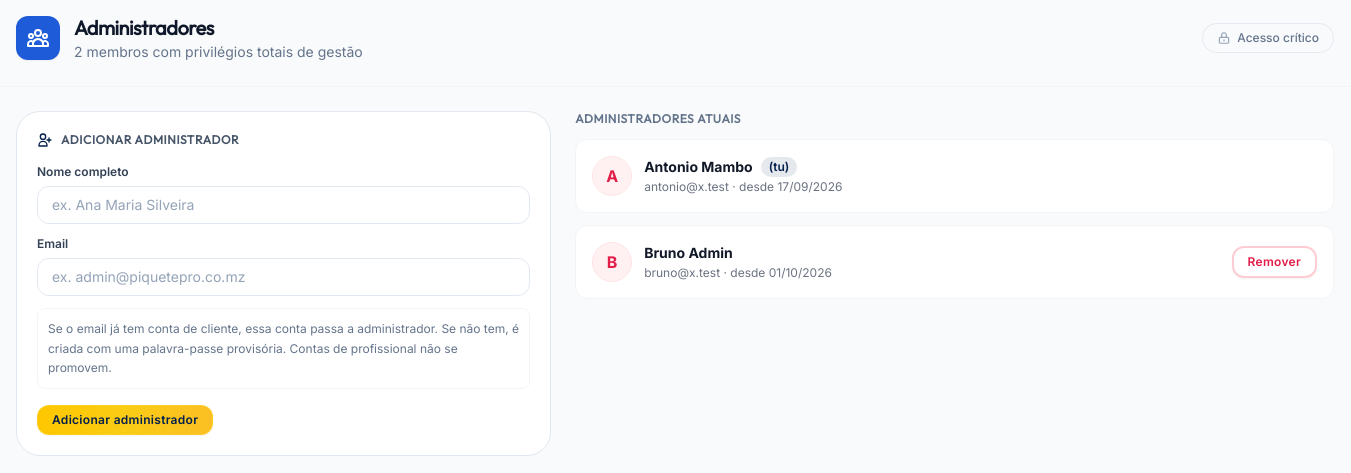
Test: AdminAdmins — lista › o erro do servidor (ex. último administrador) aparece e volta a pedir confirmação
Click the button with aria-label "Remover Bruno Admin".
click(1274, 262)  # box [1232, 246, 1317, 278]
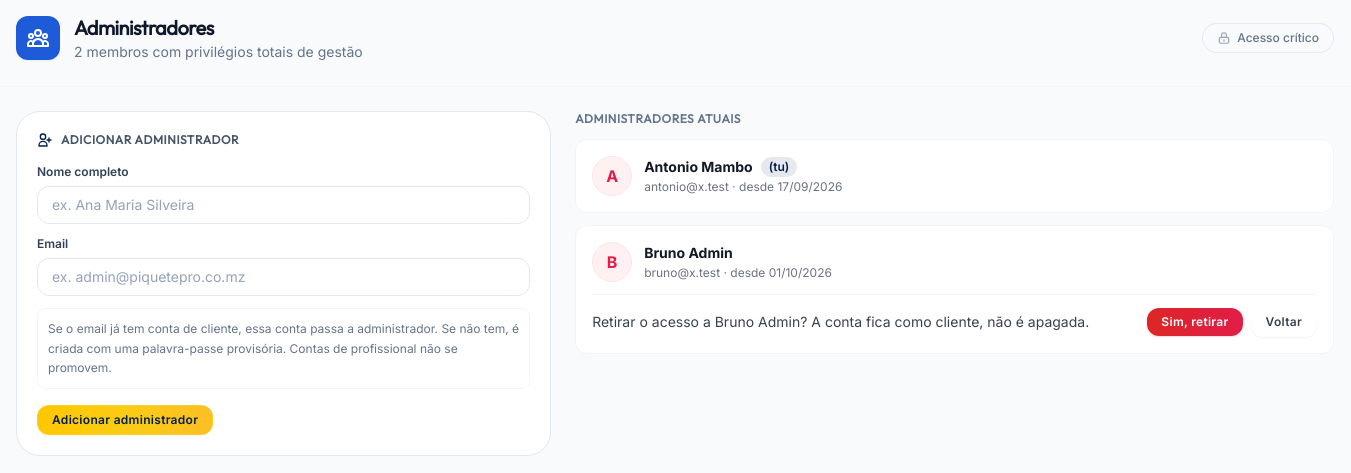
Click the button "Sim, retirar".
click(1195, 322)  # box [1147, 308, 1242, 336]
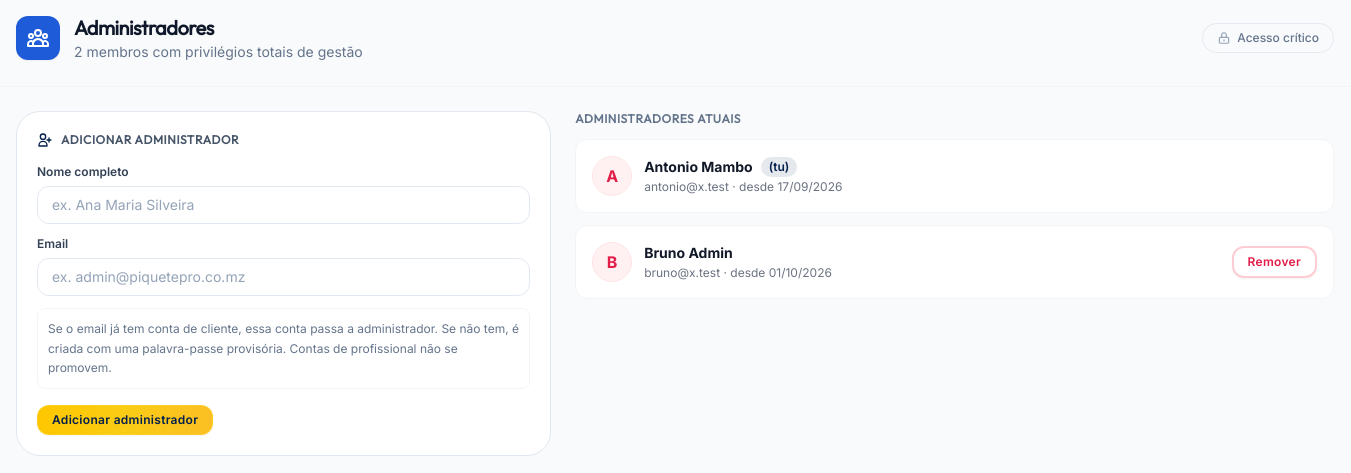
Expected: the button with aria-label "Remover Bruno Admin" is shown, [1232, 246, 1317, 278]
